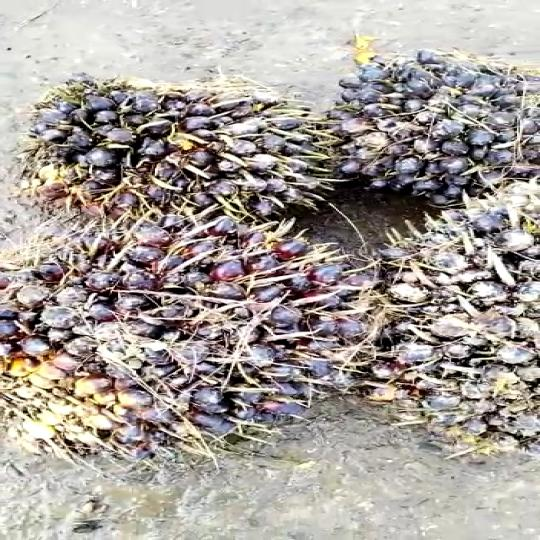mentah: (0, 223, 370, 454), (10, 62, 340, 246), (373, 174, 540, 478), (338, 53, 540, 205)
